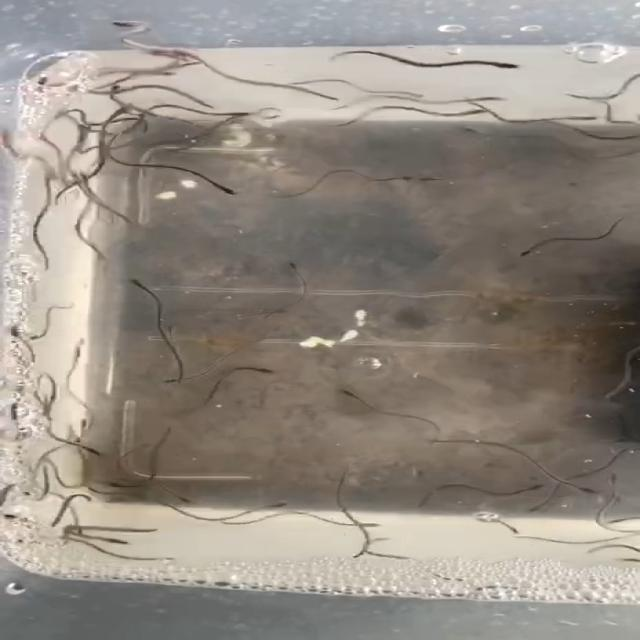inactive_glass_eel: (560, 108, 620, 125), (487, 53, 531, 74), (204, 176, 248, 196), (156, 44, 204, 62), (140, 62, 182, 80), (396, 172, 450, 186), (450, 126, 506, 139), (445, 100, 486, 117), (565, 481, 607, 497), (263, 495, 302, 512), (127, 278, 161, 297), (26, 325, 64, 342), (110, 19, 153, 34), (388, 86, 434, 100), (518, 240, 550, 260), (0, 512, 40, 528), (213, 107, 270, 118), (336, 387, 369, 406), (507, 484, 551, 498), (330, 519, 380, 531), (4, 319, 31, 341), (470, 88, 511, 102), (27, 126, 57, 145), (72, 172, 100, 192), (77, 445, 111, 461), (0, 129, 22, 152), (69, 415, 91, 438), (495, 518, 524, 535), (96, 80, 126, 96), (162, 373, 202, 385), (252, 364, 286, 378), (341, 548, 374, 562), (606, 470, 628, 491), (99, 478, 128, 493), (167, 492, 199, 505), (96, 534, 130, 546), (289, 260, 310, 278), (525, 503, 548, 515)
